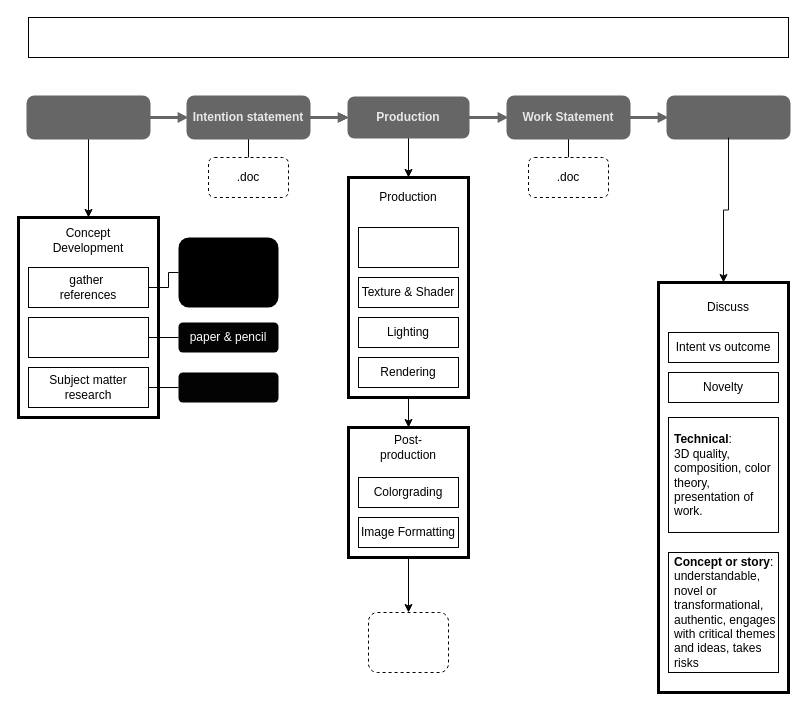
This 808x711 diagram has some shape labels left out. Here are the shapes that lost their labels. From the top down, the box of each, then its label:
(28, 16, 788, 58): Image Project Workflow
(26, 95, 150, 139): Pre-viz
(666, 95, 790, 139): Critique
(358, 226, 458, 268): Model & UV Unwrap
(178, 237, 278, 307): images, video, real-world observation
(28, 316, 148, 358): writing, sketches
(178, 372, 278, 402): books, internet
(368, 612, 448, 672): Images
